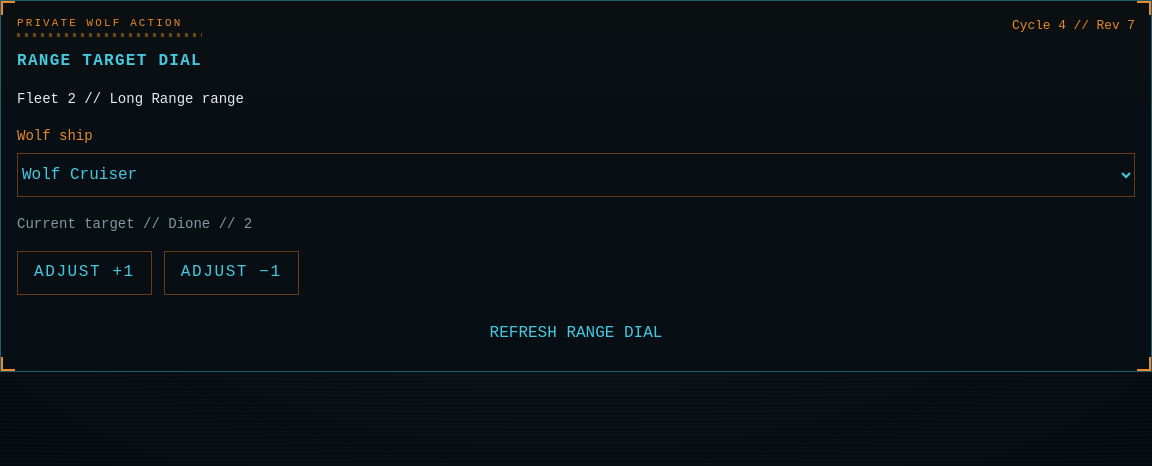
Test: shows only the current group ring and applies one selected ship target adjustment
The image size is (1152, 466).
Expected: the heading "Range target dial" is shown, [17,51,202,72]
Select "Wolf Fighter Wing" in the dropdown labelled "Wolf ship": [576, 175] box [17,153,1135,197]
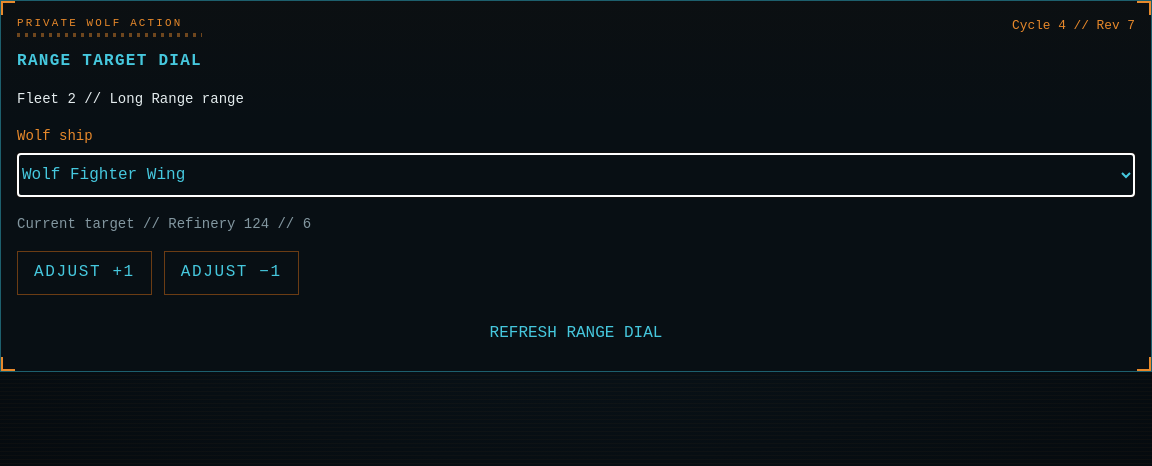
Result: the text "Current target // Refinery 124 // 6" is shown at [17,216,311,232]
Click the button with aria-label "Move target one step up the ring": [84, 273] box [17,251,152,295]
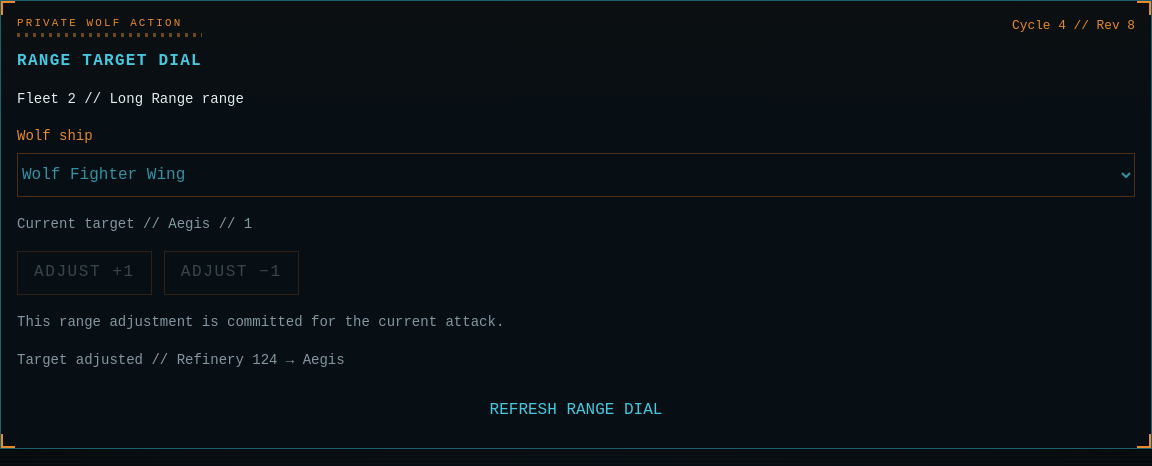
Result: the text "Target adjusted // Refinery 124 → Aegis" is shown at [17,352,345,368]
Result: the button with aria-label "Move target one step up the ring" is disabled at [17,251,152,295]
